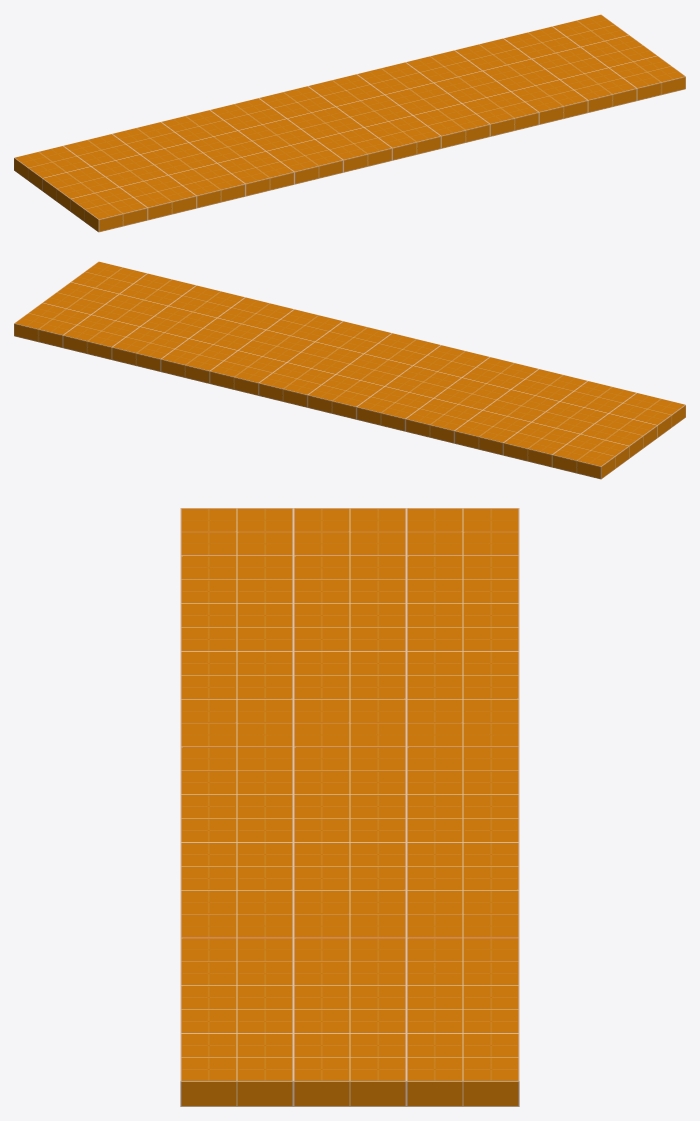
The model's file is Plate4_12x3.obj.
3 views of the same model, one above another, from view 1: azimuth 30°, elevation 25°; view 2: azimuth 150°, elevation 25°; view 3: azimuth 270°, elevation 25° (orthographic). The views are drawn at different scales.
Parts seen in each view (by area): view 1: Plate4_12x3_Cube.358; view 2: Plate4_12x3_Cube.358; view 3: Plate4_12x3_Cube.358.
Boxes of the visible parts, x1,y1,x2,y2 form: Plate4_12x3_Cube.358: [14, 14, 685, 232]; Plate4_12x3_Cube.358: [14, 261, 685, 479]; Plate4_12x3_Cube.358: [180, 508, 519, 1106].
Bounding box in the file's own units: 12 × 0.25 × 3.
1 material, 1 textured.
